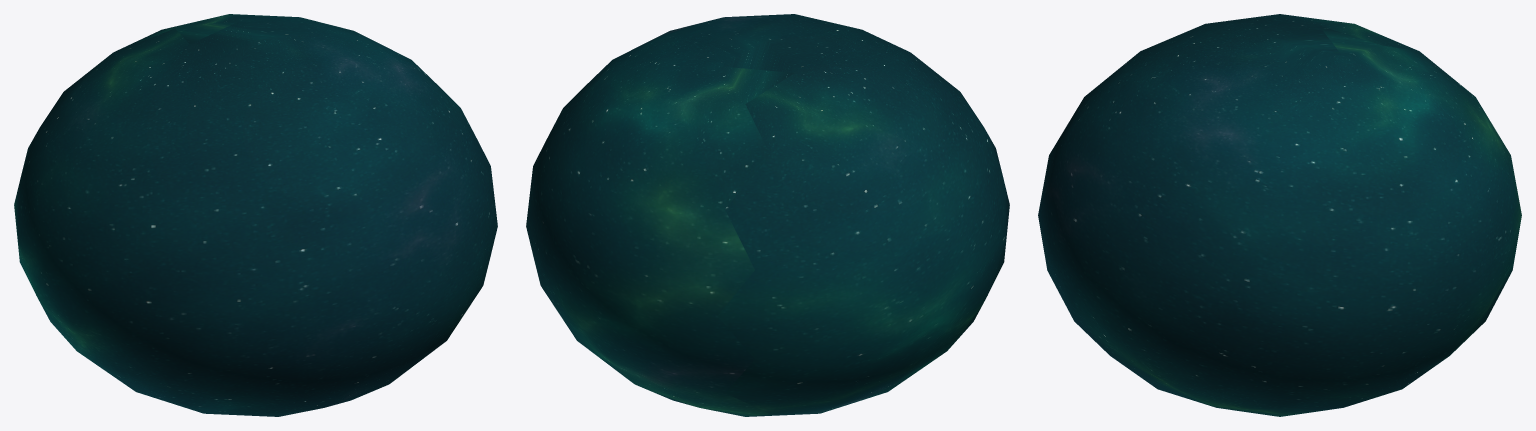
Rendered from DomeWithTexture2.fbx.
The picture shows the model from 3 angles, left to right: view 1: azimuth 30°, elevation 25°; view 2: azimuth 150°, elevation 25°; view 3: azimuth 270°, elevation 25°; orthographic projection.
Visible parts, largest first — view 1: SM_FX_Skydome_01; view 2: SM_FX_Skydome_01; view 3: SM_FX_Skydome_01.
Boxes of the visible parts, x1=… form: SM_FX_Skydome_01: x1=14, y1=14, x2=497, y2=416; SM_FX_Skydome_01: x1=526, y1=14, x2=1009, y2=416; SM_FX_Skydome_01: x1=1038, y1=14, x2=1521, y2=416.
Bounding box in the file's own units: 1823 × 1446 × 1823.
Materials: 1 (1 with a texture image).
